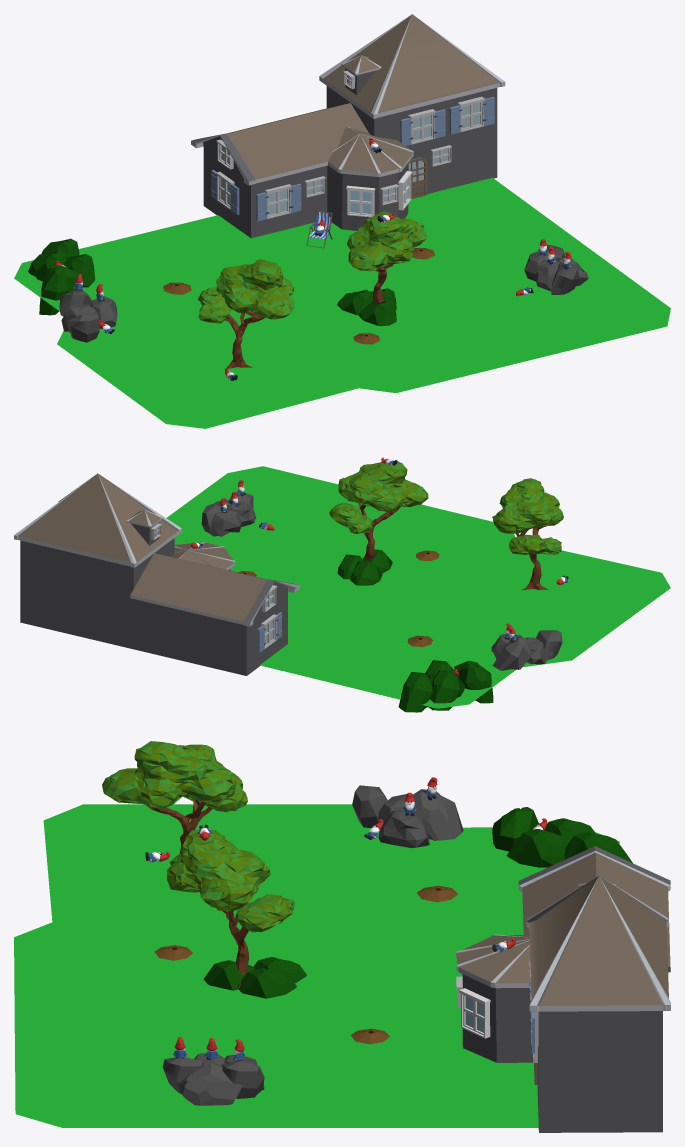
The model's file is Level design test MediumEasylevel.fbx.
3 renders of one model, top to bottom at view 1: azimuth 30°, elevation 25°; view 2: azimuth 150°, elevation 25°; view 3: azimuth 270°, elevation 25°, orthographic. The views are drawn at different scales.
Visible parts, largest first — view 1: Plane.001, House_Medium, TreeBase.002, TreeBase.001, medium_Rock_1.008, medium_Rock_1, medium_Rock_2.001, medium_Rock_2.003, medium_Rock_1.011, medium_Rock_1.009, medium_Rock_1.006; view 2: Plane.001, House_Medium, TreeBase.001, TreeBase.002, medium_Rock_1.010, medium_Rock_1.008, medium_Rock_1.011, medium_Rock_1.004, medium_Rock_3.003, medium_Rock_1.006, medium_Rock_2.001, medium_Rock_3.001 (+1 smaller); view 3: Plane.001, House_Medium, TreeBase.001, TreeBase.002, medium_Rock_1.005, medium_Rock_1.009, medium_Rock_1.004, medium_Rock_3.002, medium_Rock_1.008, medium_Rock_1.007, medium_Rock_2.002, medium_Rock_2.001 (+5 smaller).
Part boxes in pixels (x1,y1,x2,y2): Plane.001: (14, 178, 670, 428); House_Medium: (191, 14, 505, 238); TreeBase.002: (197, 259, 294, 369); TreeBase.001: (347, 211, 426, 303); medium_Rock_1.008: (39, 264, 82, 315); medium_Rock_1: (358, 300, 396, 326); medium_Rock_2.001: (68, 314, 99, 342); medium_Rock_2.003: (551, 262, 579, 294); medium_Rock_1.011: (28, 250, 66, 281); medium_Rock_1.009: (64, 254, 95, 287); medium_Rock_1.006: (337, 289, 373, 315); Plane.001: (166, 466, 670, 708); House_Medium: (14, 473, 300, 675); TreeBase.001: (329, 461, 428, 561); TreeBase.002: (492, 478, 563, 590); medium_Rock_1.010: (398, 672, 432, 712); medium_Rock_1.008: (454, 660, 493, 703); medium_Rock_1.011: (427, 670, 465, 710); medium_Rock_1.004: (492, 634, 533, 670); medium_Rock_3.003: (210, 509, 241, 536); medium_Rock_1.006: (350, 561, 382, 585); medium_Rock_2.001: (536, 630, 562, 660); medium_Rock_3.001: (525, 637, 548, 664); Plane.001: (14, 804, 619, 1127); House_Medium: (456, 846, 670, 1132); TreeBase.001: (167, 830, 294, 987); TreeBase.002: (102, 741, 247, 853); medium_Rock_1.005: (181, 1062, 242, 1105); medium_Rock_1.009: (506, 829, 567, 867); medium_Rock_1.004: (413, 789, 463, 840); medium_Rock_3.002: (378, 809, 429, 848); medium_Rock_1.008: (492, 807, 538, 851); medium_Rock_1.007: (238, 968, 296, 998); medium_Rock_2.002: (221, 1061, 264, 1098); medium_Rock_2.001: (352, 785, 387, 828).
Bounding box in the file's own units: 10326 × 3476 × 8696.
